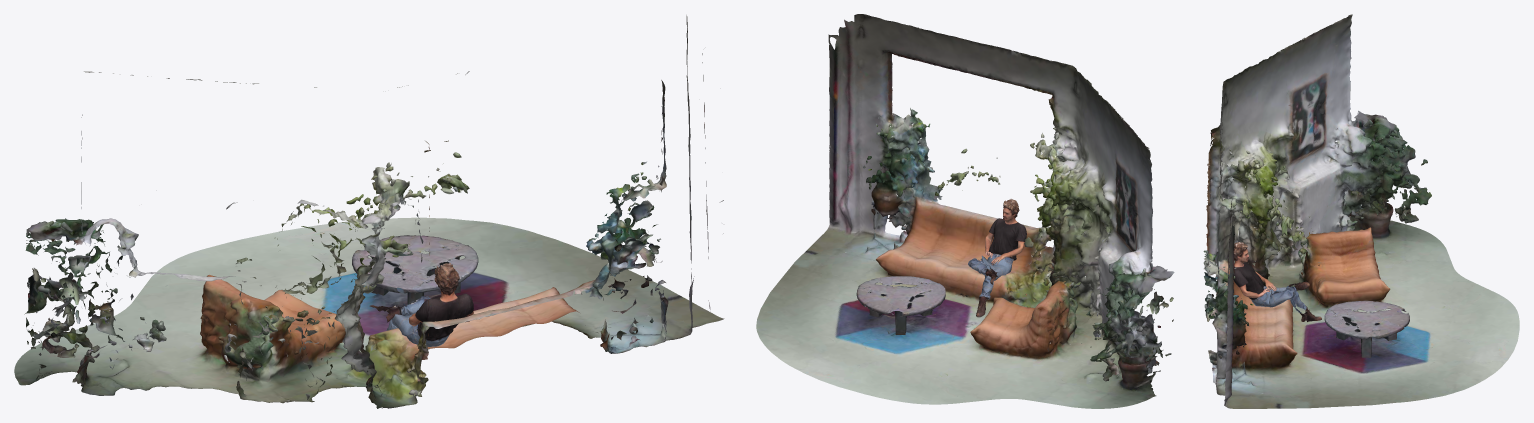
Rendered from sittingisland-newtable.simplified.optimized.glb.
3 renders of one model, left to right at view 1: azimuth 30°, elevation 25°; view 2: azimuth 150°, elevation 25°; view 3: azimuth 270°, elevation 25°, orthographic. The views are drawn at different scales.
Size of the model in its own units: 114 by 60.48 by 78.3.
Materials: 3 (3 with a texture image).
